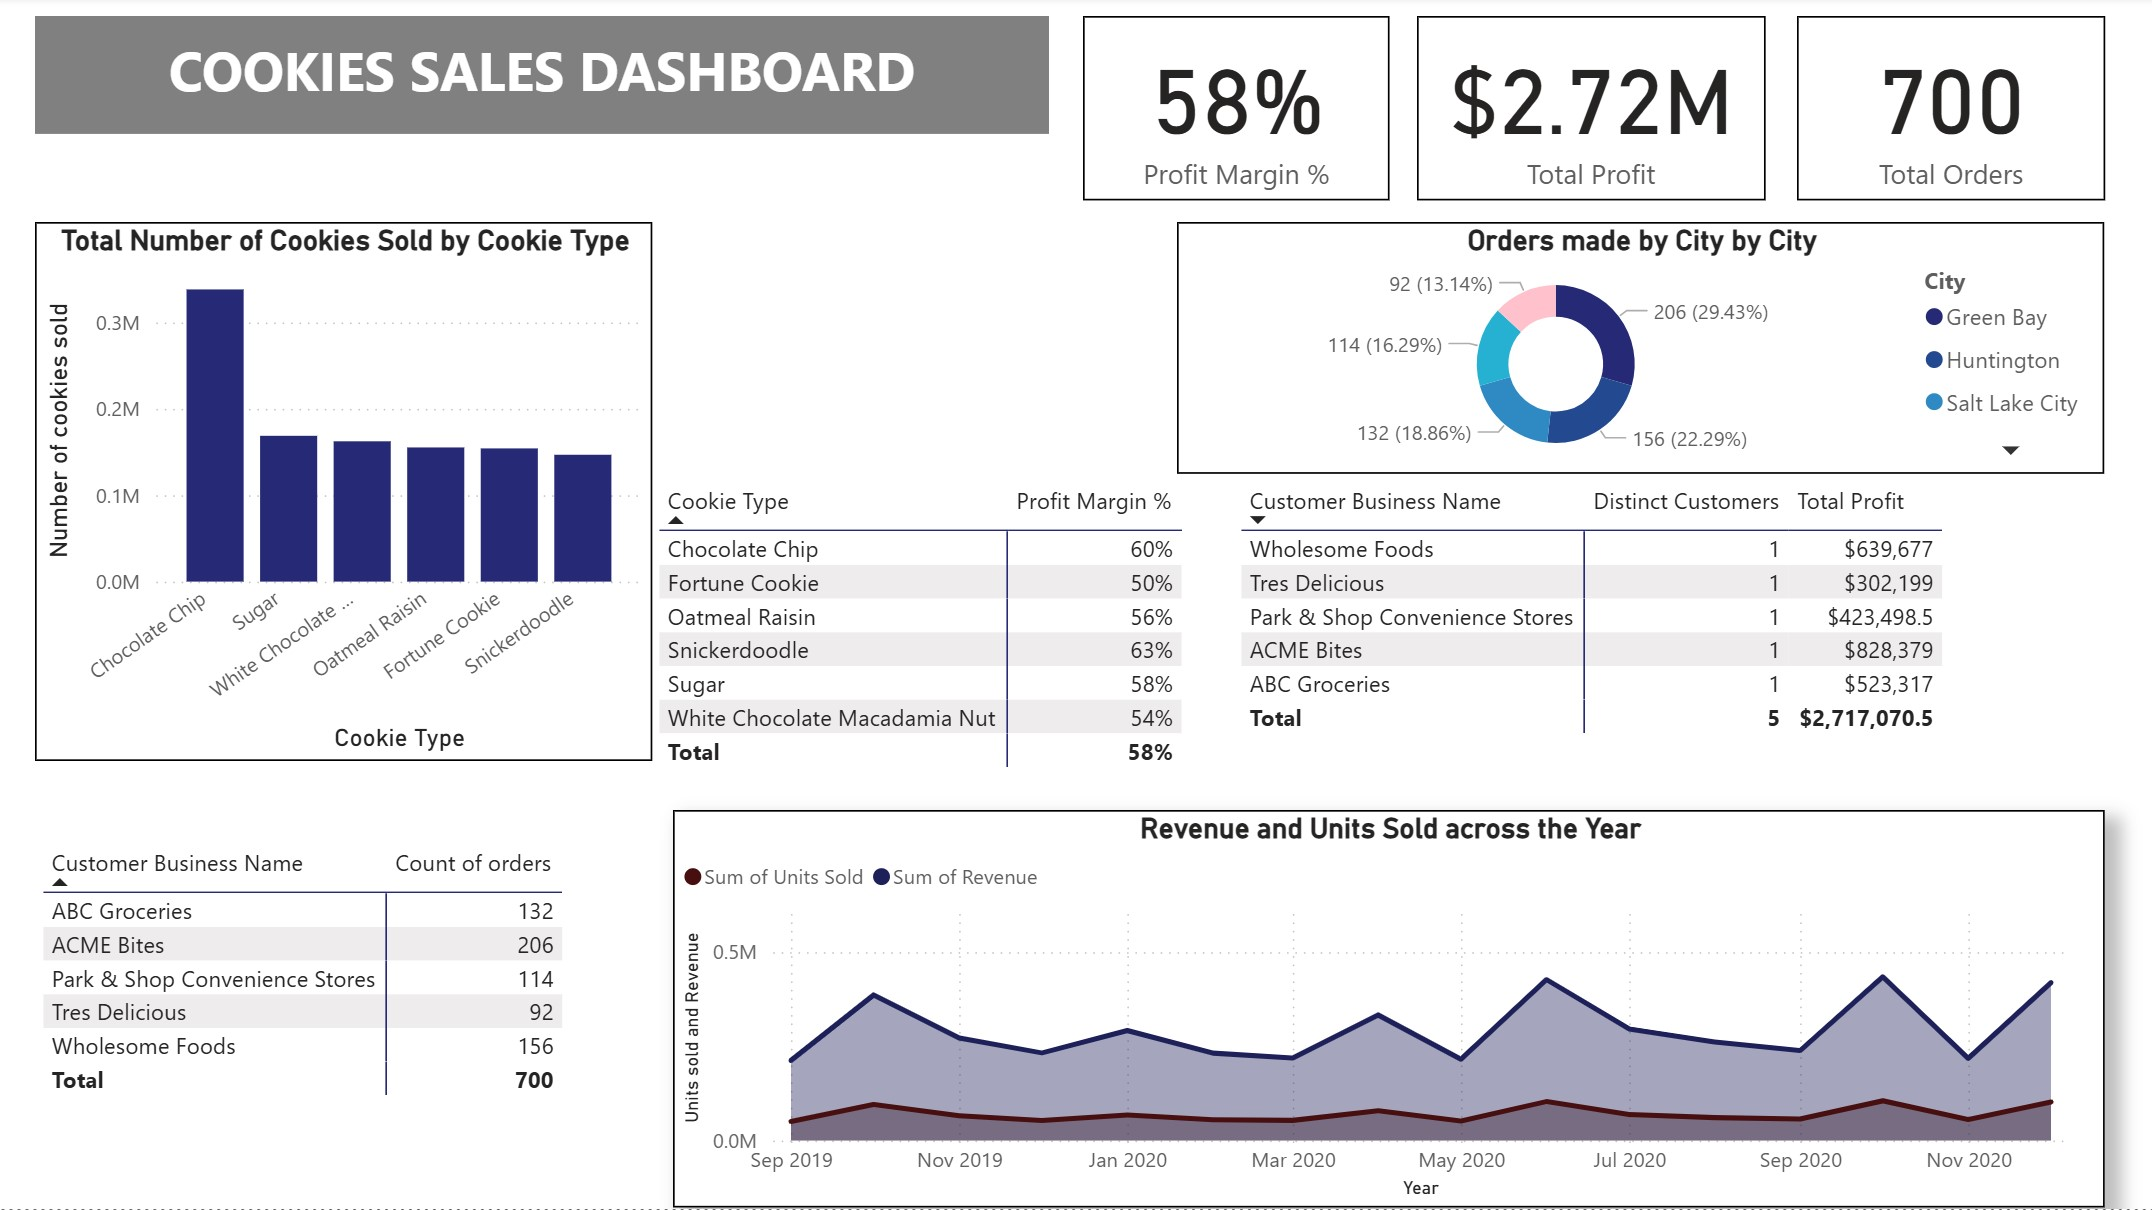

This screenshot's page, from the dashboard's own definition file:
{"tool":"powerbi","page":{"name":"Page 1","canvas":[1280,720],"ordinal":0},"visuals":[{"type":"pivotTable","fields":{"Values":["Orders.Count of orders"],"Rows":["Customers.Name"]},"box":[22,498.5,355.7,195],"z":0},{"type":"pivotTable","fields":{"Values":["Orders.Distinct Customers","Orders.Total Profit"],"Rows":["Customers.Name"]},"box":[733.4,284.3,517.8,200.5],"z":1000},{"type":"pivotTable","fields":{"Values":["Orders.Profit Margin %"],"Rows":["Cookie Types.Cookie Type"]},"box":[388.7,284.3,337.9,181.3],"z":2000},{"type":"textbox","box":[22.6,11.9,602,70.1],"z":3000},{"type":"columnChart","title":"Total Number of Cookies Sold by Cookie Type","fields":{"Category":["Cookie Types.Cookie Type"],"Y":["Orders.Total Number of UCookies Sold"]},"box":[22,134.6,366.7,320],"z":4000},{"type":"card","fields":{"Values":["Orders.Profit Margin %"]},"box":[644.3,11.3,182,109.6],"z":5000},{"type":"card","fields":{"Values":["Sum(Orders.Profit)"]},"box":[843.2,11.3,206.8,109.6],"z":6000},{"type":"card","fields":{"Values":["CountNonNull(Orders.Order ID)"]},"box":[1068.1,11.3,183.1,109.6],"z":7000},{"type":"areaChart","title":"Revenue and Units Sold across the Year","fields":{"Category":["Orders.Date.Variation.Date Hierarchy.Year","Orders.Date.Variation.Date Hierarchy.Quarter","Orders.Date.Variation.Date Hierarchy.Month","Orders.Date.Variation.Date Hierarchy.Day"],"Y":["Sum(Orders.Units Sold)","Sum(Orders.Revenue)"]},"box":[401,483.4,850.1,236.2],"z":8000},{"type":"donutChart","fields":{"Category":["Customers.City"],"Y":["CountNonNull(Orders.Order ID)"]},"box":[700.4,134.6,550.7,149.7],"z":9000}]}

Visuals, with their boxes in screenshot pixels (x1, y1, x2, y2), scaled from the page's 1280x720 canvas onto the 2152x1210 screenshot:
pivotTable - Orders.Count of orders x Customers.Name: detection(37, 838, 635, 1165)
pivotTable - Orders.Distinct Customers x Orders.Total Profit: detection(1233, 478, 2104, 815)
pivotTable - Orders.Profit Margin % x Cookie Types.Cookie Type: detection(654, 478, 1222, 782)
textbox: detection(38, 20, 1050, 138)
"Total Number of Cookies Sold by Cookie Type" columnChart: detection(37, 226, 654, 764)
card - Orders.Profit Margin %: detection(1083, 19, 1389, 203)
card - Sum(Orders.Profit): detection(1418, 19, 1765, 203)
card - CountNonNull(Orders.Order ID): detection(1796, 19, 2104, 203)
"Revenue and Units Sold across the Year" areaChart: detection(674, 812, 2103, 1209)
donutChart - Customers.City x CountNonNull(Orders.Order ID): detection(1178, 226, 2103, 478)
